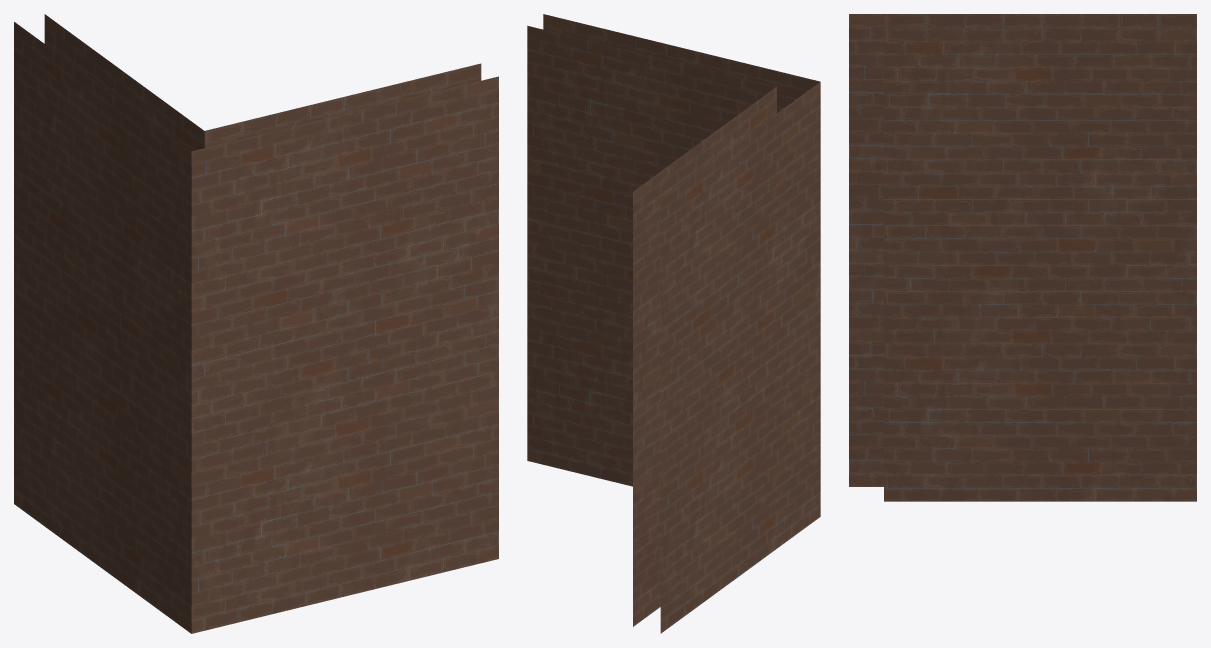
File: brick-corner.glb
3 renders of one model, left to right at view 1: azimuth 30°, elevation 25°; view 2: azimuth 150°, elevation 25°; view 3: azimuth 270°, elevation 25°, orthographic. The views are drawn at different scales.
Visible parts, largest first — view 1: Brick_Corner_Plain; view 2: Brick_Corner_Plain; view 3: Brick_Corner_Plain.
Boxes of the visible parts, left/top/right/bottom form: Brick_Corner_Plain: left=14, top=14, right=498, bottom=633; Brick_Corner_Plain: left=527, top=14, right=820, bottom=633; Brick_Corner_Plain: left=849, top=14, right=1196, bottom=501.
Size of the model in its own units: 2 by 3 by 2.
Materials: 2 (2 with a texture image).
